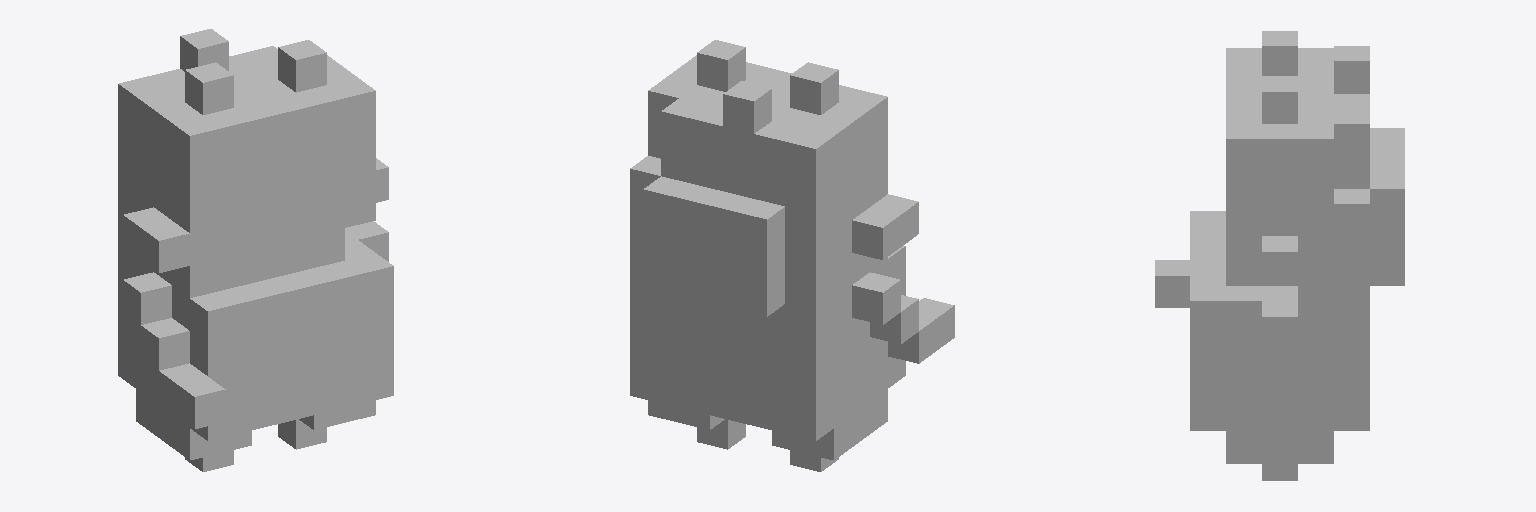
Rendered from Zombie.obj.
The picture shows the model from 3 angles: view 1: azimuth 30°, elevation 25°; view 2: azimuth 150°, elevation 25°; view 3: azimuth 270°, elevation 25°; orthographic projection.
Visible parts, largest first — view 1: object 1; view 2: object 1; view 3: object 1.
Part boxes in pixels (bbox=[...]): object 1: bbox=[118, 29, 393, 471]; object 1: bbox=[630, 40, 954, 471]; object 1: bbox=[1155, 31, 1404, 480].
Bounding box in the file's own units: 0.8 × 1.2 × 0.7.